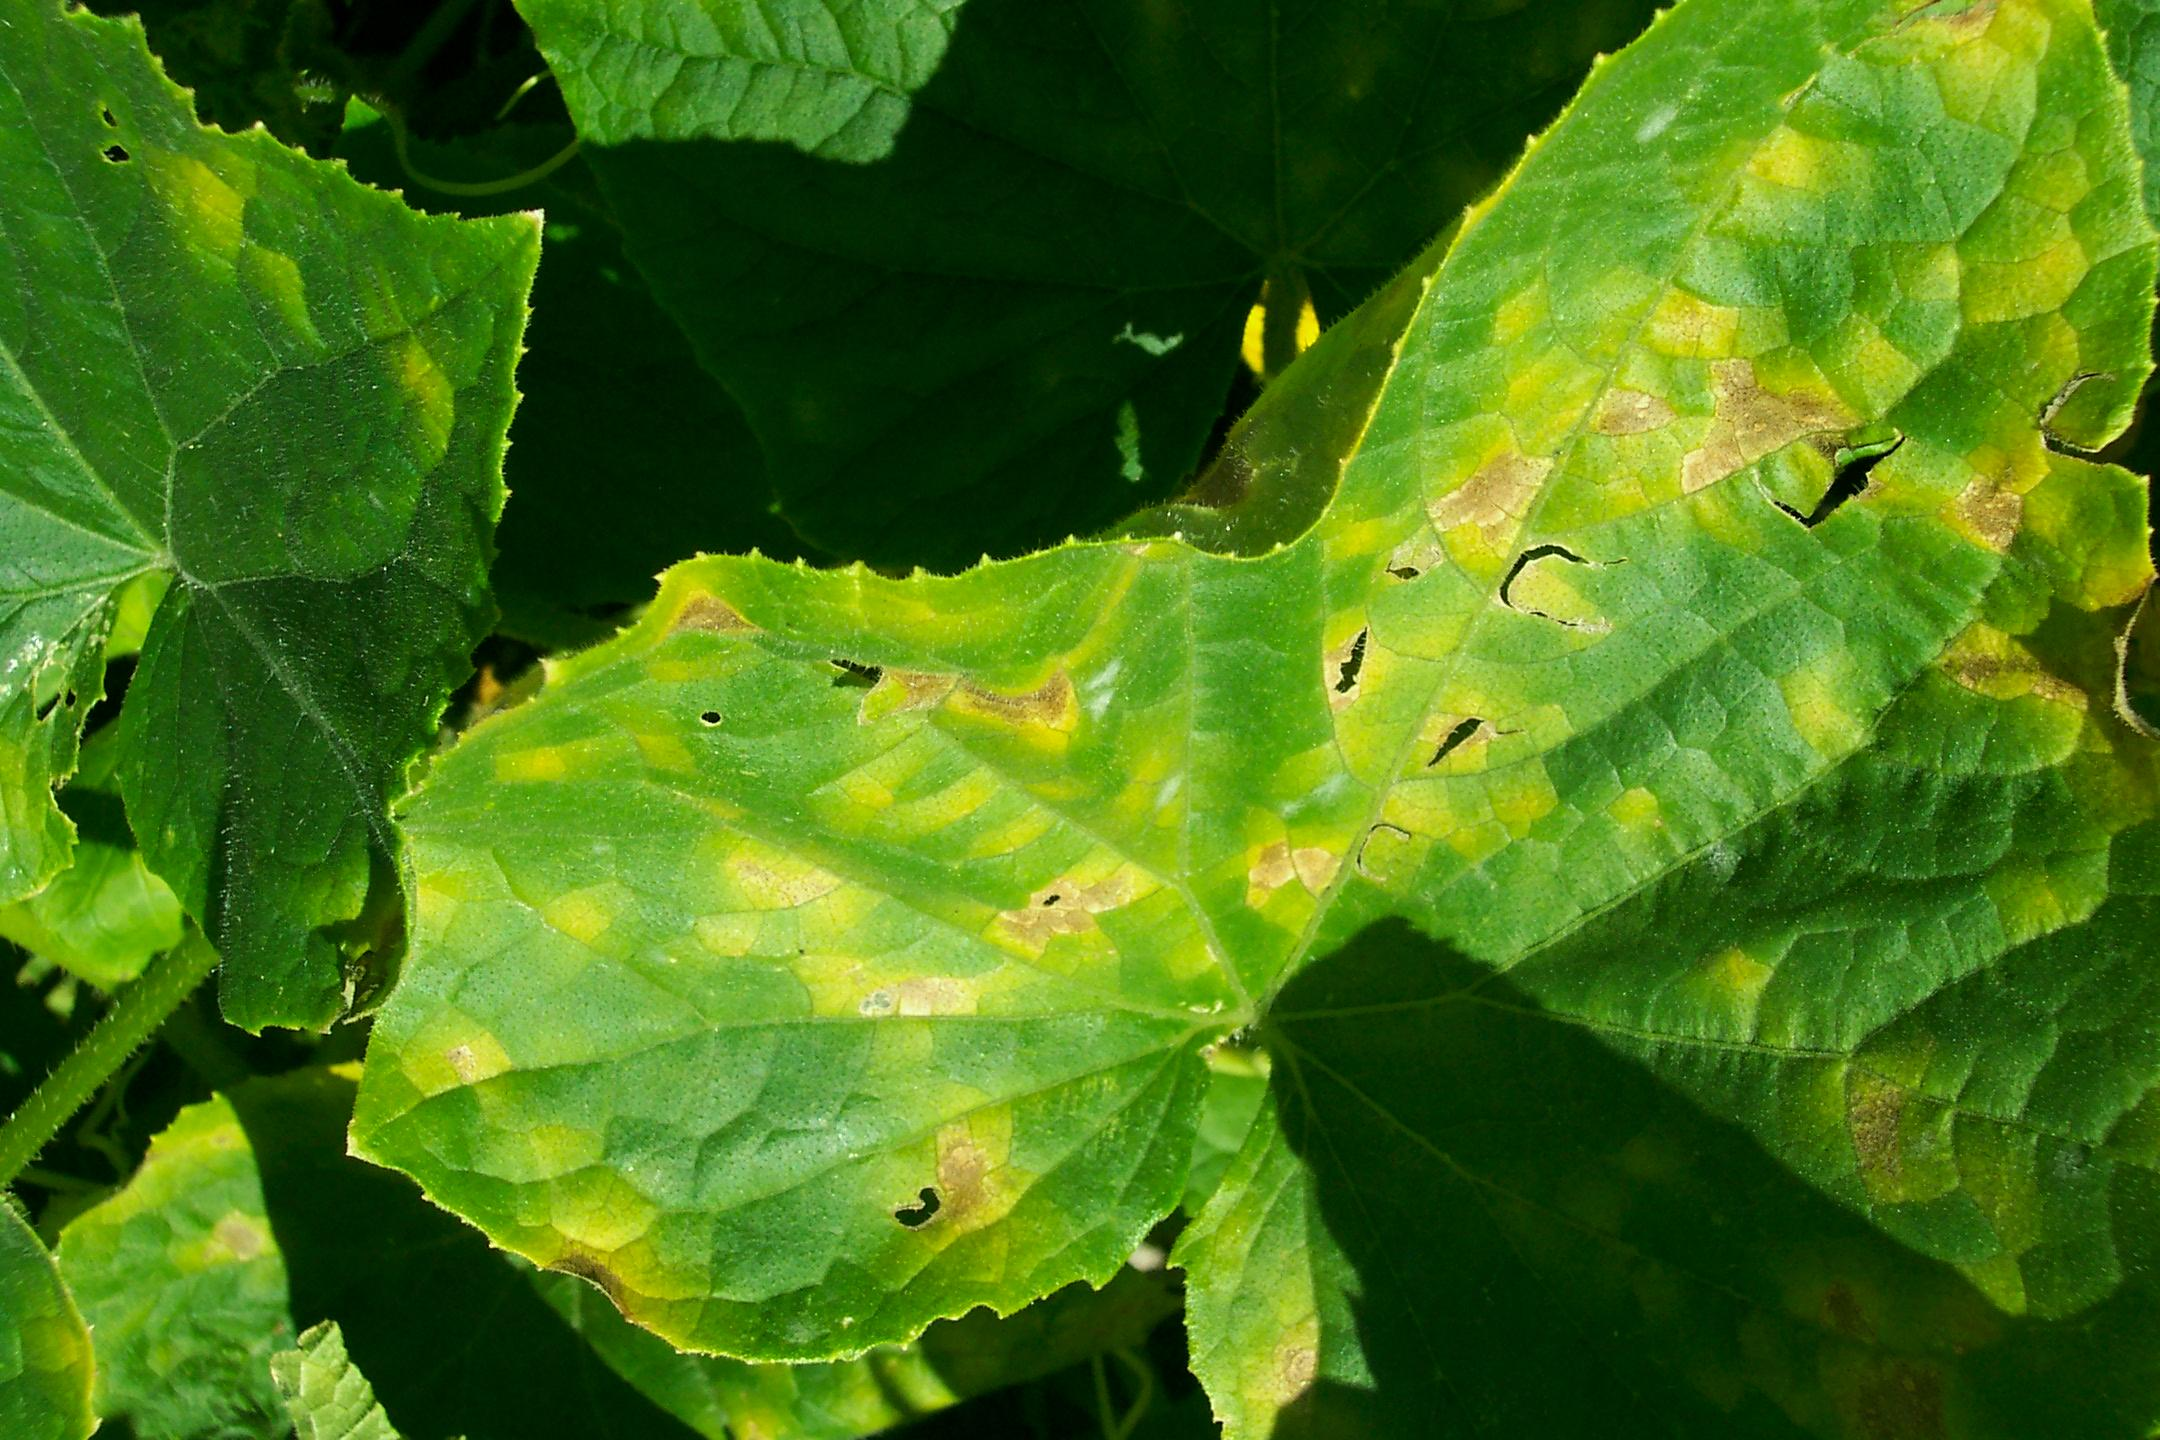Tomato mold leaf: (301, 0, 2160, 1381)
